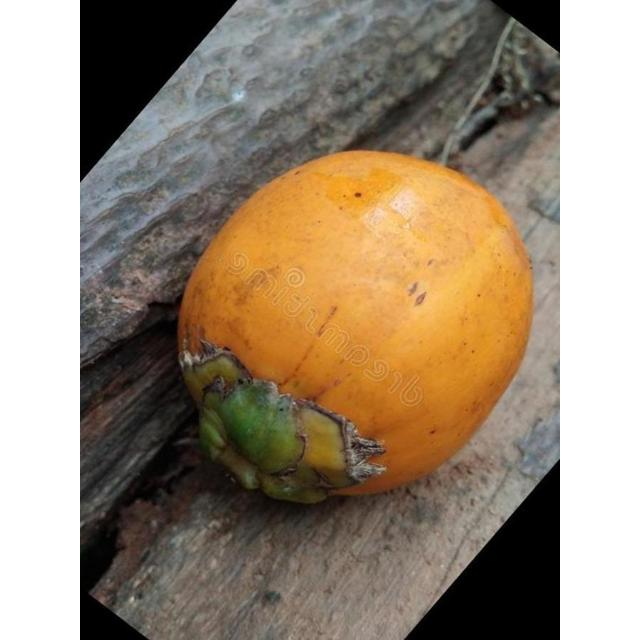good: (177, 151, 534, 507)
